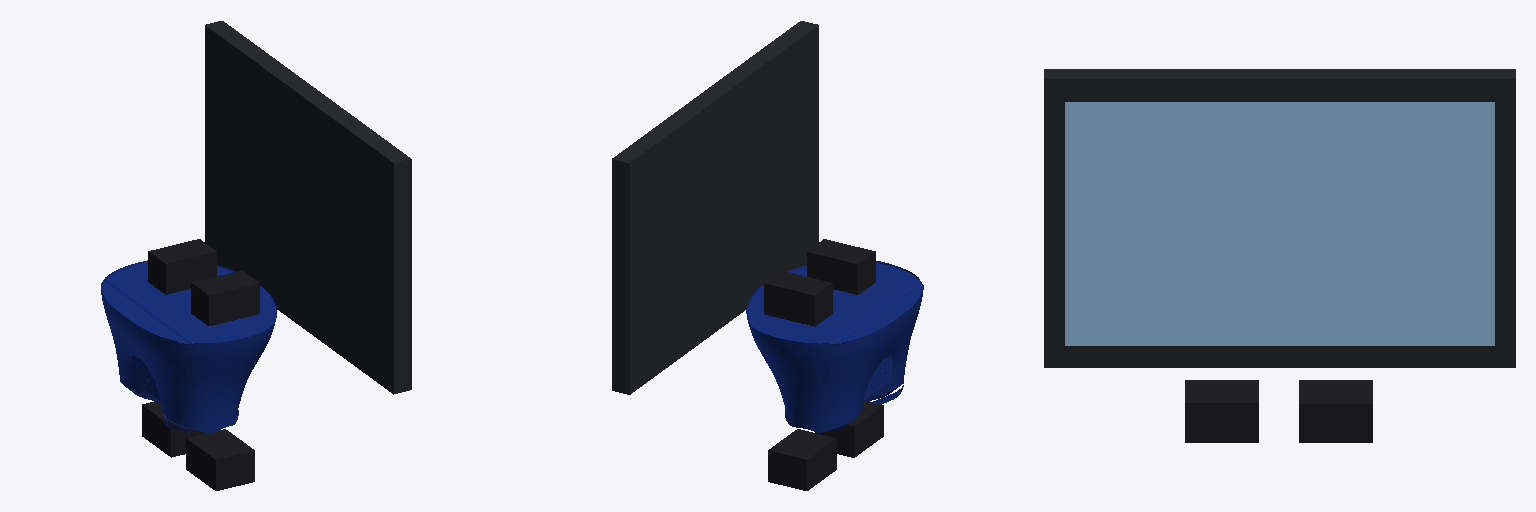
URDF robot description (haetburi):
<?xml version="1.0"?>
<!-- Haetburi biped (v17_xc330) - generated by tools/build_model.py, do not edit by hand -->
<robot name="haetburi">
  <mujoco>
    <compiler meshdir="." balanceinertia="true" discardvisual="false" strippath="false" fusestatic="false"/>
  </mujoco>
  <material name="display"><color rgba="0.18 0.19 0.21 1"/></material>
  <material name="screen"><color rgba="0.62 0.80 0.95 1"/></material>
  <material name="shell"><color rgba="0.106 0.216 0.541 1"/></material>
  <material name="motor"><color rgba="0.15 0.15 0.17 1"/></material>
  <material name="foot"><color rgba="0.25 0.25 0.28 1"/></material>
  <link name="world"/>
  <joint name="floating_base" type="floating">
    <parent link="world"/><child link="pelvis"/>
    <origin xyz="0 0 0" rpy="0 0 0"/>
  </joint>
  <link name="pelvis">
    <inertial>
      <origin xyz="-0.0090868 -7.94523e-05 0.0467854" rpy="0 0 0"/>
      <mass value="0.307041"/>
      <inertia ixx="0.000373314" ixy="3.10678e-07" ixz="0.000117049" iyy="0.00048795" iyz="-5.13697e-07" izz="0.000397733"/>
    </inertial>
    <visual><origin xyz="0 0 0" rpy="0 0 0"/><geometry><mesh filename="meshes/pelvis.stl"/></geometry><material name="shell"/></visual>
    <visual><origin xyz="0.0153026 0.0245857 0.0585" rpy="0 0 0"/><geometry><box size="0.034 0.02 0.026"/></geometry><material name="motor"/></visual>
    <visual><origin xyz="0.0152974 -0.024889 0.0585" rpy="0 0 0"/><geometry><box size="0.034 0.02 0.026"/></geometry><material name="motor"/></visual>
    <collision><origin xyz="0.0074988 -0.000146911 0.0206246" rpy="0 0 0"/><geometry><box size="0.089907 0.119391 0.0636709"/></geometry></collision>
  </link>
  <link name="torso">
    <inertial>
      <origin xyz="0.0209973 0.000105379 0.131628" rpy="0 0 0"/>
      <mass value="2.15535"/>
      <inertia ixx="0.0354852" ixy="-0.000105161" ixz="0.0063203" iyy="0.0356991" iyz="-0.000100818" izz="0.0195041"/>
    </inertial>
    <visual><origin xyz="0 0 0" rpy="0 0 0"/><geometry><mesh filename="meshes/torso.stl"/></geometry><material name="shell"/></visual>
    <visual><origin xyz="0.0843686 0 0.0406669" rpy="0 0 0"/><geometry><box size="0.011868 0.217236 0.146854"/></geometry><material name="display"/></visual>
    <visual><origin xyz="0.0903026 0 0.0406669" rpy="0 0 0"/><geometry><box size="0.0004 0.198144 0.12384"/></geometry><material name="screen"/></visual>
    <collision><origin xyz="-0.0391719 -1.82352e-06 0.0288995" rpy="0 0 0"/><geometry><box size="0.183869 0.124676 0.122779"/></geometry></collision>
    <collision><origin xyz="0.0478332 0.0965728 0.0582346" rpy="0 0 0"/><geometry><sphere radius="0.0698567"/></geometry></collision>
    <collision><origin xyz="0.0481639 -0.0967208 0.0582346" rpy="0 0 0"/><geometry><sphere radius="0.0697895"/></geometry></collision>
    <collision><origin xyz="-0.00600387 0.000307043 0.117894" rpy="0 0 0"/><geometry><sphere radius="0.119818"/></geometry></collision>
    <collision><origin xyz="-0.010462 -0.000141163 0.173068" rpy="0 0 0"/><geometry><sphere radius="0.138234"/></geometry></collision>
    <collision><origin xyz="-0.0159306 -0.000232984 0.22825" rpy="0 0 0"/><geometry><sphere radius="0.136633"/></geometry></collision>
    <collision><origin xyz="-0.0124975 0.000984204 0.28343" rpy="0 0 0"/><geometry><sphere radius="0.118808"/></geometry></collision>
    <collision><origin xyz="-0.00739515 0.00779025 0.338644" rpy="0 0 0"/><geometry><sphere radius="0.0846824"/></geometry></collision>
    <collision><origin xyz="-0.0135526 -0.00257485 0.393809" rpy="0 0 0"/><geometry><sphere radius="0.0491437"/></geometry></collision>
    <collision><origin xyz="0.0843686 0 0.0406669" rpy="0 0 0"/><geometry><box size="0.011868 0.217236 0.146854"/></geometry></collision>
  </link>
  <link name="leg_l">
    <inertial>
      <origin xyz="-0.000550532 0.00293058 -0.0293242" rpy="0 0 0"/>
      <mass value="0.0307865"/>
      <inertia ixx="1.13161e-05" ixy="-5.14615e-08" ixz="8.15567e-08" iyy="9.701e-06" iyz="8.26824e-09" izz="3.85644e-06"/>
    </inertial>
    <visual><origin xyz="0 0 0" rpy="0 0 0"/><geometry><mesh filename="meshes/leg_l.stl"/></geometry><material name="shell"/></visual>
    <collision><origin xyz="-0.0235945 0.00314161 -0.0245021" rpy="0 0 0"/><geometry><box size="0.0109644 0.0364972 0.00495935"/></geometry></collision>
  </link>
  <link name="hip_l">
    <inertial>
      <origin xyz="0 -0.0025438 0.0216296" rpy="0 0 0"/>
      <mass value="0.0330524"/>
      <inertia ixx="3.79165e-06" ixy="0" ixz="0" iyy="3.24691e-06" iyz="6.45301e-08" izz="2.07807e-06"/>
    </inertial>
    <visual><origin xyz="0 -0.003 0.0235" rpy="0 0 0"/><geometry><box size="0.02 0.026 0.034"/></geometry><material name="motor"/></visual>
  </link>
  <link name="foot_l">
    <inertial>
      <origin xyz="0.000534726 0.0073892 -0.00232158" rpy="0 0 0"/>
      <mass value="0.0798228"/>
      <inertia ixx="2.03828e-05" ixy="-9.25168e-07" ixz="-2.06221e-07" iyy="2.76056e-05" iyz="-1.38617e-06" izz="3.29687e-05"/>
    </inertial>
    <visual><origin xyz="0 0 0" rpy="0 0 0"/><geometry><mesh filename="meshes/foot_l.stl"/></geometry><material name="shell"/></visual>
    <visual><origin xyz="0 0.0088 5.38845e-19" rpy="0 0 0"/><geometry><box size="0.026 0.034 0.02"/></geometry><material name="motor"/></visual>
    <collision><origin xyz="0 0 0" rpy="0 0 0"/><geometry><mesh filename="meshes/foot_l.stl"/></geometry></collision>
  </link>
  <link name="leg_r">
    <inertial>
      <origin xyz="-0.000487688 -0.00293825 -0.0292804" rpy="0 0 0"/>
      <mass value="0.0307108"/>
      <inertia ixx="1.12862e-05" ixy="4.6553e-08" ixz="7.46285e-08" iyy="9.62912e-06" iyz="-7.80418e-09" izz="3.7981e-06"/>
    </inertial>
    <visual><origin xyz="0 0 0" rpy="0 0 0"/><geometry><mesh filename="meshes/leg_r.stl"/></geometry><material name="shell"/></visual>
    <collision><origin xyz="-0.0239188 -0.00217682 -0.0244277" rpy="0 0 0"/><geometry><box size="0.0102409 0.0341275 0.00479304"/></geometry></collision>
  </link>
  <link name="hip_r">
    <inertial>
      <origin xyz="0 0.0025438 0.0216296" rpy="0 0 0"/>
      <mass value="0.0330524"/>
      <inertia ixx="3.79165e-06" ixy="0" ixz="0" iyy="3.24691e-06" iyz="-6.45301e-08" izz="2.07807e-06"/>
    </inertial>
    <visual><origin xyz="0 0.003 0.0235" rpy="0 0 0"/><geometry><box size="0.02 0.026 0.034"/></geometry><material name="motor"/></visual>
  </link>
  <link name="foot_r">
    <inertial>
      <origin xyz="0.000868835 -0.00717632 -0.00236172" rpy="0 0 0"/>
      <mass value="0.0796564"/>
      <inertia ixx="2.02028e-05" ixy="1.0119e-06" ixz="-2.24454e-07" iyy="2.75114e-05" iyz="1.34772e-06" izz="3.28357e-05"/>
    </inertial>
    <visual><origin xyz="0 0 0" rpy="0 0 0"/><geometry><mesh filename="meshes/foot_r.stl"/></geometry><material name="shell"/></visual>
    <visual><origin xyz="0 -0.0088 5.38845e-19" rpy="0 0 0"/><geometry><box size="0.026 0.034 0.02"/></geometry><material name="motor"/></visual>
    <collision><origin xyz="0 0 0" rpy="0 0 0"/><geometry><mesh filename="meshes/foot_r.stl"/></geometry></collision>
  </link>
  <joint name="waist_fixed" type="fixed">
    <parent link="pelvis"/><child link="torso"/>
    <origin xyz="0 0 0.05246" rpy="0 0 0"/>
  </joint>
  <joint name="hip_yaw_l" type="revolute">
    <parent link="pelvis"/><child link="hip_l"/>
    <origin xyz="0.00650265 0.0245857 0" rpy="0 0 0"/>
    <axis xyz="0 0 1"/>
    <limit lower="-0.401426" upper="0.401426" effort="1.0" velocity="7.43"/>
    <dynamics damping="0.07142857142857144" friction="0.028571428571428574"/>
  </joint>
  <joint name="hip_pitch_l" type="revolute">
    <parent link="hip_l"/><child link="leg_l"/>
    <origin xyz="0 -0.003 0.0147" rpy="0 0 0"/>
    <axis xyz="0 1 0"/>
    <limit lower="-0.785398" upper="0.418879" effort="1.0" velocity="7.43"/>
    <dynamics damping="0.07142857142857144" friction="0.028571428571428574"/>
  </joint>
  <joint name="hip_yaw_r" type="revolute">
    <parent link="pelvis"/><child link="hip_r"/>
    <origin xyz="0.00649735 -0.024889 0" rpy="0 0 0"/>
    <axis xyz="0 0 1"/>
    <limit lower="-0.401426" upper="0.401426" effort="1.0" velocity="7.43"/>
    <dynamics damping="0.07142857142857144" friction="0.028571428571428574"/>
  </joint>
  <joint name="hip_pitch_r" type="revolute">
    <parent link="hip_r"/><child link="leg_r"/>
    <origin xyz="0 0.003 0.0147" rpy="0 0 0"/>
    <axis xyz="0 1 0"/>
    <limit lower="-0.785398" upper="0.418879" effort="1.0" velocity="7.43"/>
    <dynamics damping="0.07142857142857144" friction="0.028571428571428574"/>
  </joint>
  <joint name="ankle_roll_l" type="revolute">
    <parent link="leg_l"/><child link="foot_l"/>
    <origin xyz="0.00518133 -0.00442343 -0.05394" rpy="0 0 0"/>
    <axis xyz="1 0 0"/>
    <limit lower="-0.261799" upper="0.261799" effort="1.0" velocity="7.43"/>
    <dynamics damping="0.07142857142857144" friction="0.028571428571428574"/>
  </joint>
  <joint name="ankle_roll_r" type="revolute">
    <parent link="leg_r"/><child link="foot_r"/>
    <origin xyz="0.00444167 0.00399945 -0.05394" rpy="0 0 0"/>
    <axis xyz="1 0 0"/>
    <limit lower="-0.261799" upper="0.261799" effort="1.0" velocity="7.43"/>
    <dynamics damping="0.07142857142857144" friction="0.028571428571428574"/>
  </joint>
</robot>

--- Render facts (derived) ---
The picture shows the robot from 3 angles, left to right: view 1: azimuth 30°, elevation 25°; view 2: azimuth 150°, elevation 25°; view 3: azimuth 270°, elevation 25°; orthographic projection.
Model haetburi with 9 links and 8 joints (6 revolute, 1 fixed, 1 floating), rooted at world, posed every joint at zero.
Visible links, largest first — view 1: torso, pelvis, foot_r, foot_l; view 2: torso, pelvis, foot_l, foot_r; view 3: torso, foot_l, foot_r.
Link boxes in pixels (<box>): torso: <box>205,21,411,394</box>; pelvis: <box>101,239,276,432</box>; foot_r: <box>186,429,254,490</box>; foot_l: <box>142,401,205,457</box>; torso: <box>612,21,818,394</box>; pelvis: <box>746,239,923,432</box>; foot_l: <box>768,429,836,490</box>; foot_r: <box>815,401,883,457</box>; torso: <box>1044,69,1515,367</box>; foot_l: <box>1299,380,1372,442</box>; foot_r: <box>1185,380,1258,442</box>.
Bounding box of the posed robot: 0.128 × 0.2172 × 0.2158 m (x, y, z).
2 mesh visuals loaded from 6 distinct referenced files (2 binary STL); not drawn: 4 (reference not matched to a file when rendering).
